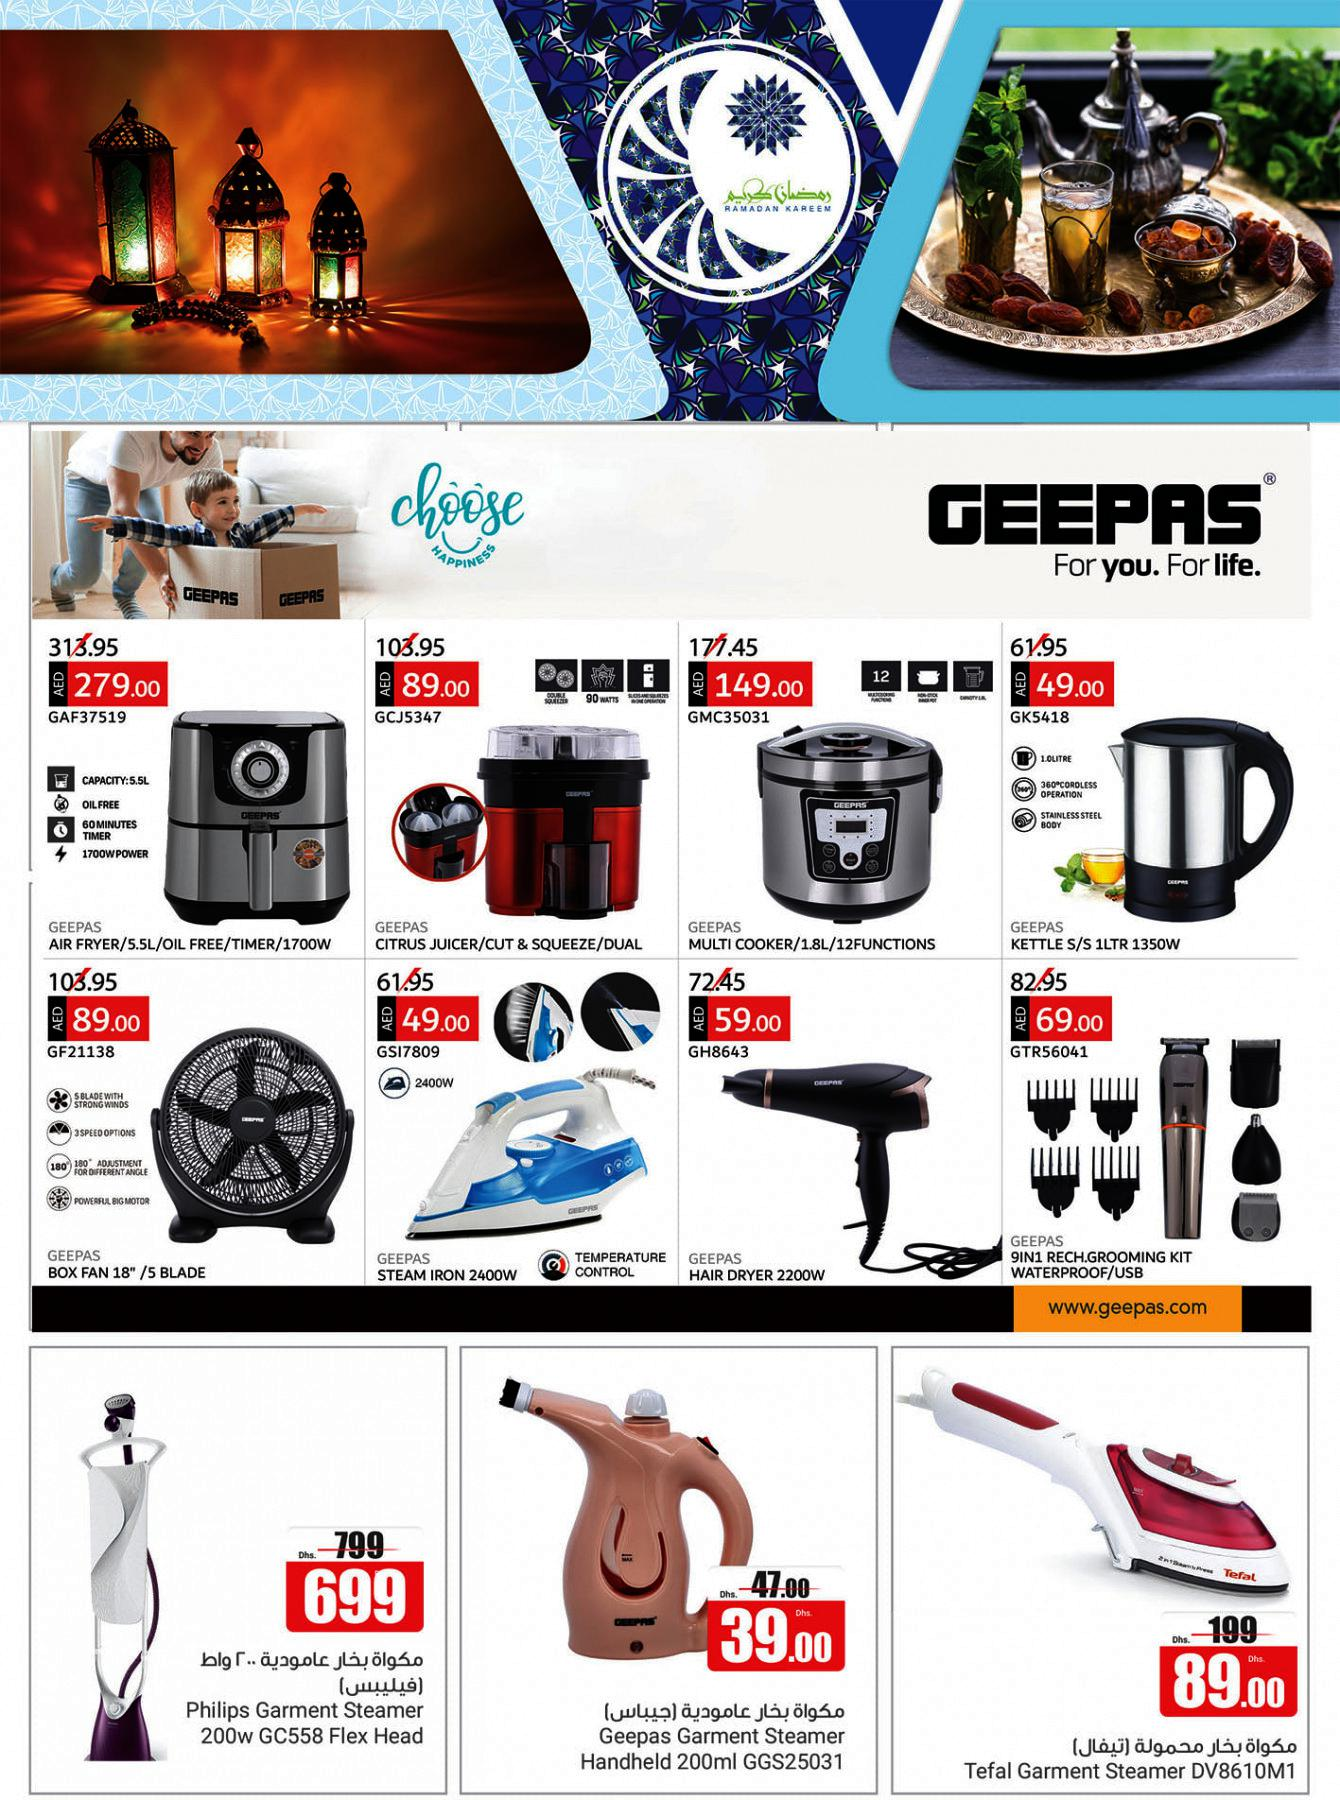text: (921, 464, 1289, 600), (555, 1721, 850, 1775), (182, 1699, 434, 1758), (193, 1644, 429, 1700), (374, 916, 652, 956), (44, 920, 341, 957), (687, 915, 956, 954), (1006, 1229, 1206, 1281), (579, 1689, 860, 1725), (1061, 1724, 1295, 1762), (39, 1243, 217, 1286), (1013, 919, 1213, 956), (688, 1246, 838, 1285), (379, 1248, 524, 1285), (570, 1243, 673, 1285)
